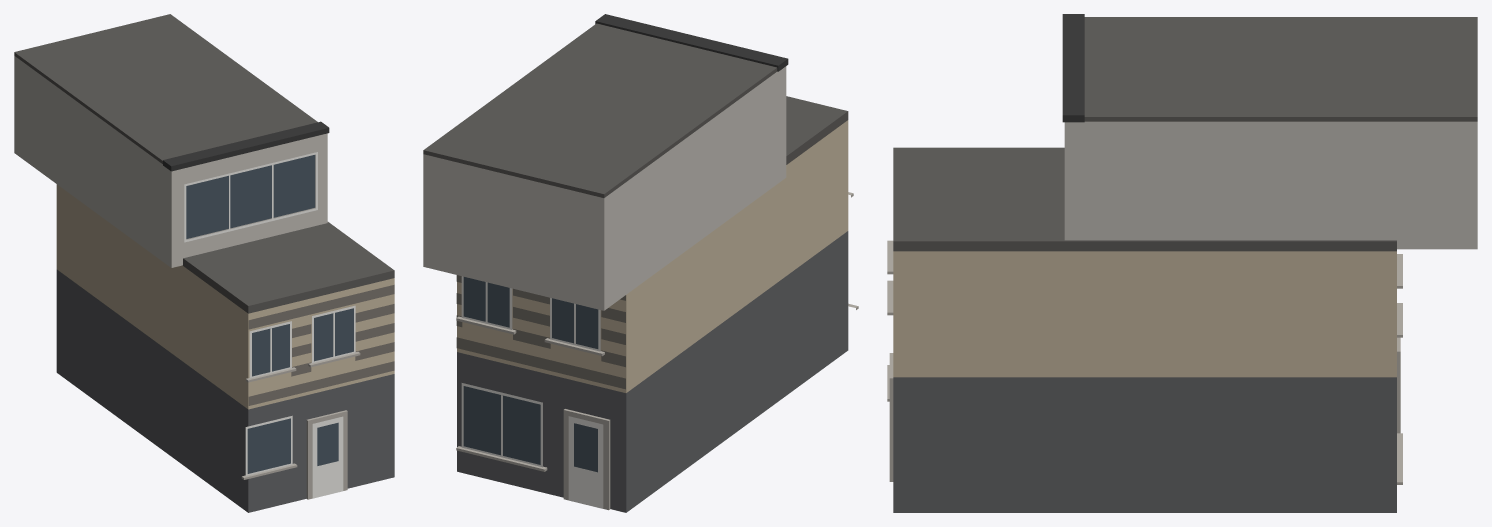
The model's file is nd-tw-flat-top__striped__2__flat__long__solid__mirror.glb.
3 renders of one model, left to right at view 1: azimuth 30°, elevation 25°; view 2: azimuth 150°, elevation 25°; view 3: azimuth 270°, elevation 25°, orthographic. The views are drawn at different scales.
Parts seen in each view (by area): view 1: nd-tw-flat-top__striped__2__flat__long__solid__mirror; view 2: nd-tw-flat-top__striped__2__flat__long__solid__mirror; view 3: nd-tw-flat-top__striped__2__flat__long__solid__mirror.
Boxes of the visible parts, x1,y1,x2,y2 form: nd-tw-flat-top__striped__2__flat__long__solid__mirror: (14,14,394,512); nd-tw-flat-top__striped__2__flat__long__solid__mirror: (423,14,858,512); nd-tw-flat-top__striped__2__flat__long__solid__mirror: (887,14,1477,512).
Bounding box in the file's own units: 4.78 × 8.7 × 11.72.
